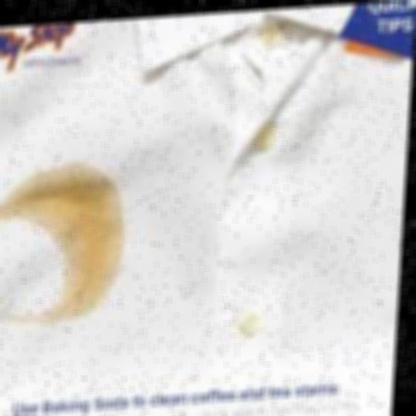coffee: (65, 162, 126, 303), (15, 170, 63, 219)
